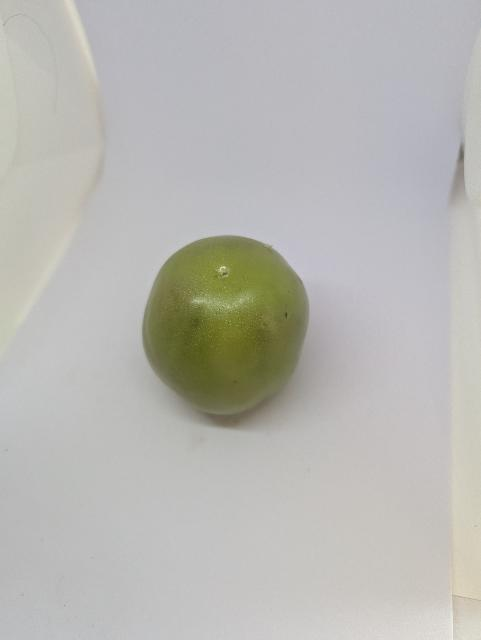green: (125, 219, 324, 435)
